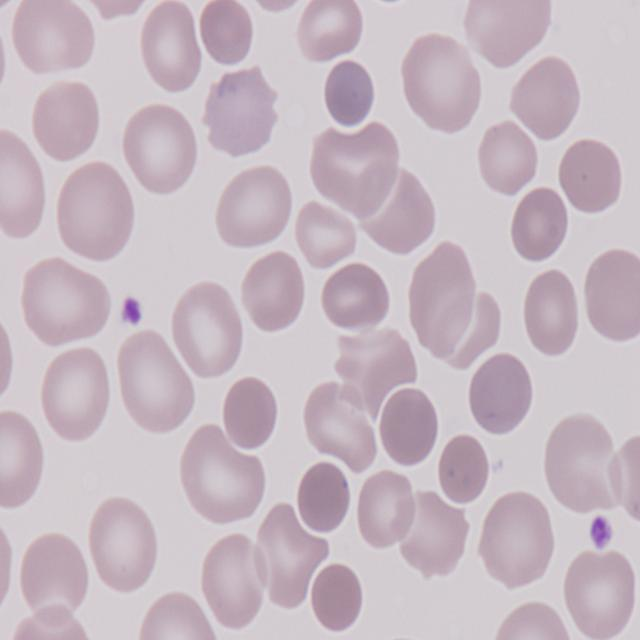Platelets: (588, 512, 620, 552)
RBC: (397, 30, 485, 137), (178, 426, 269, 526), (20, 256, 114, 352), (112, 330, 196, 436), (52, 160, 136, 262), (169, 280, 250, 380), (541, 412, 622, 512), (120, 99, 200, 200), (476, 489, 555, 590), (87, 492, 162, 594), (406, 240, 480, 342), (37, 344, 114, 442), (297, 379, 379, 471), (561, 545, 640, 640), (202, 64, 278, 160), (214, 164, 296, 250), (18, 532, 95, 622), (511, 54, 585, 145), (10, 0, 96, 76), (136, 2, 204, 98), (201, 529, 266, 629), (29, 78, 102, 165), (398, 491, 469, 579), (468, 350, 536, 438), (242, 248, 310, 334), (581, 247, 640, 343), (354, 466, 420, 551), (0, 128, 49, 242), (557, 136, 625, 218), (520, 270, 582, 358), (476, 119, 542, 200), (319, 262, 395, 332), (0, 406, 45, 512), (294, 197, 359, 270), (510, 188, 570, 266), (298, 0, 362, 65), (136, 593, 220, 640), (200, 0, 258, 68), (490, 598, 574, 640), (7, 608, 96, 640), (614, 427, 640, 523), (0, 514, 20, 620)
Spherocyte: (374, 388, 440, 472), (294, 458, 356, 540), (220, 374, 282, 454), (432, 430, 492, 505), (322, 57, 380, 131), (308, 562, 364, 634)
